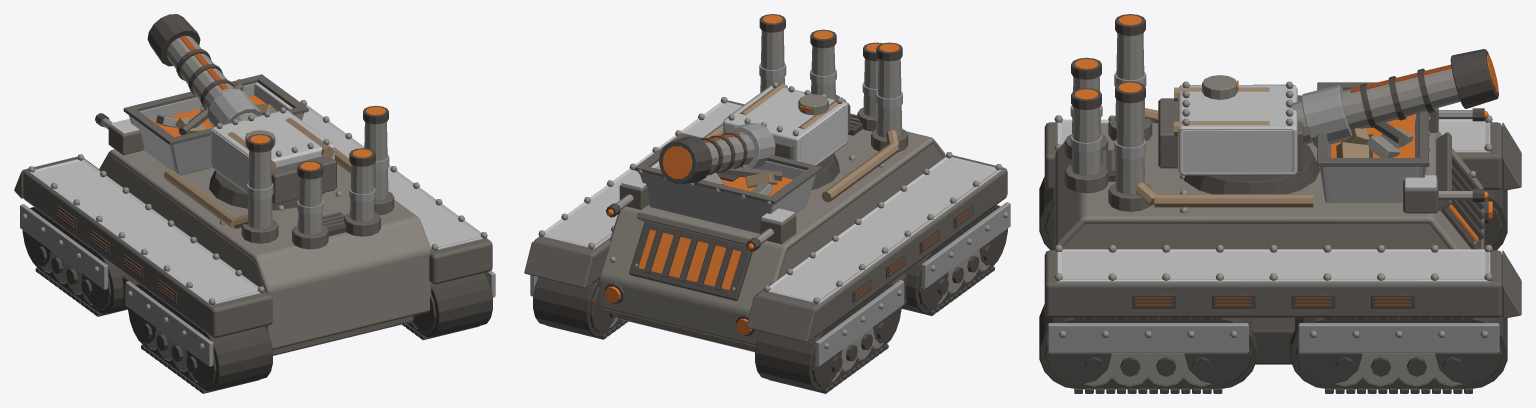
Rendered from crucible_experimental.glb.
3 renders of one model, left to right at view 1: azimuth 30°, elevation 25°; view 2: azimuth 150°, elevation 25°; view 3: azimuth 270°, elevation 25°, orthographic. The views are drawn at different scales.
Parts seen in each view (by area): view 1: Body, Turret; view 2: Body, Turret; view 3: Body, Turret.
Part boxes in pixels (<box>): Body: <box>14,74,495,393</box>; Turret: <box>147,14,336,210</box>; Body: <box>524,14,1010,393</box>; Turret: <box>659,82,850,189</box>; Body: <box>1039,14,1521,393</box>; Turret: <box>1158,49,1498,194</box>.
Bounding box in the file's own units: 2.03 × 1.45 × 2.42.
